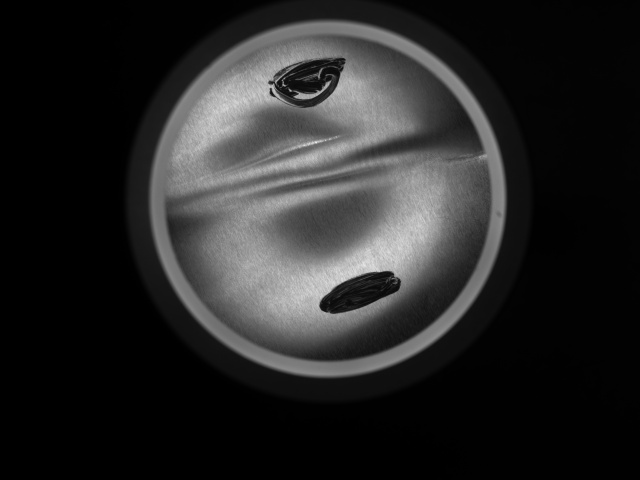zang_wu: (266, 55, 348, 111), (317, 267, 405, 314)
zhe_zhou: (205, 63, 451, 329)
